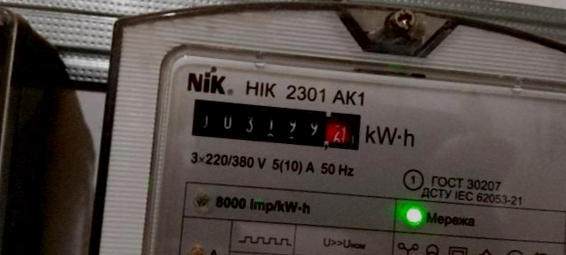0: (223, 109, 236, 129), (200, 107, 211, 126)
1: (267, 110, 278, 129)
3: (245, 111, 257, 132)
6: (332, 126, 344, 141)
9: (288, 112, 300, 133), (310, 116, 322, 135)
screen: (185, 85, 371, 158)
